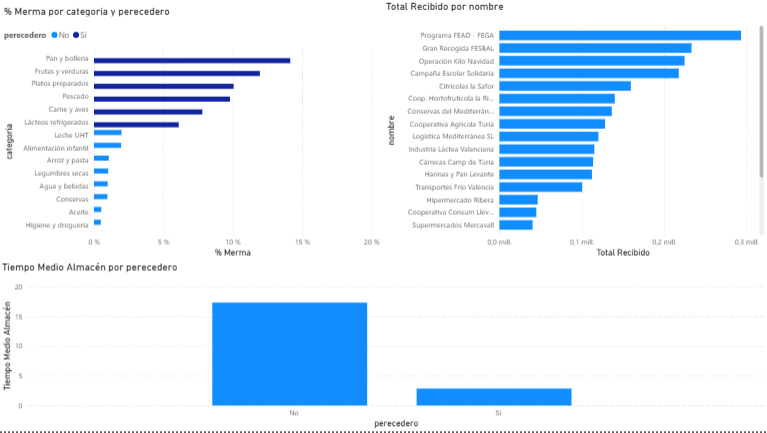

The page's visual inventory and layout, read from the dashboard file:
{"tool":"powerbi","page":{"name":"Mermas y logística","canvas":[1280,720],"ordinal":1},"visuals":[{"type":"clusteredBarChart","fields":{"Category":["dim_alimento.categoria"],"Series":["dim_alimento.perecedero"],"Y":["fact_entradas.% Merma"]},"box":[3.3,8.3,636.7,426.7],"z":0},{"type":"clusteredColumnChart","fields":{"Category":["dim_alimento.perecedero"],"Y":["fact_repartos.Tiempo Medio Almacén"]},"box":[0,435,1280,285],"z":1},{"type":"clusteredBarChart","fields":{"Category":["dim_donante.nombre"],"Y":["fact_entradas.Total Recibido"]},"box":[640,0,640,435],"z":2}]}

Visuals, with their boxes in screenshot pixels (x1, y1, x2, y2), scaled from the page's 1280x720 canvas onto the 767x433 screenshot:
clusteredBarChart - dim_alimento.categoria x dim_alimento.perecedero: (x1=2, y1=5, x2=384, y2=262)
clusteredColumnChart - dim_alimento.perecedero x fact_repartos.Tiempo Medio Almacén: (x1=0, y1=262, x2=766, y2=432)
clusteredBarChart - dim_donante.nombre x fact_entradas.Total Recibido: (x1=384, y1=0, x2=766, y2=262)
